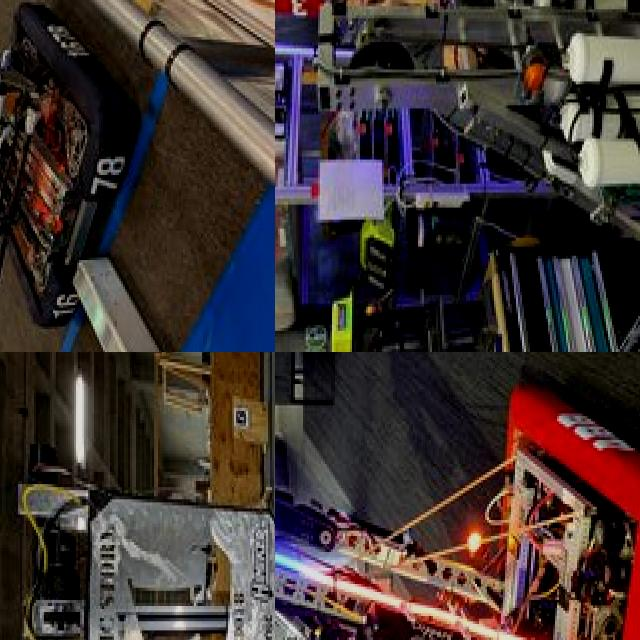FRC-Robots: (321, 0, 640, 352), (275, 375, 640, 640), (0, 352, 275, 640), (0, 0, 127, 352)
